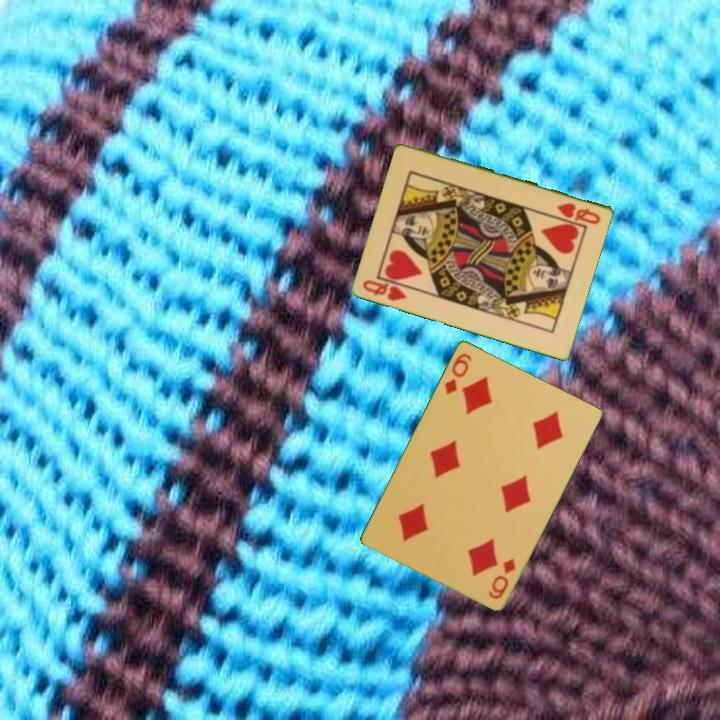6d: (441, 349, 474, 397), (485, 554, 518, 602)
Qh: (553, 199, 604, 227), (359, 276, 409, 304)
